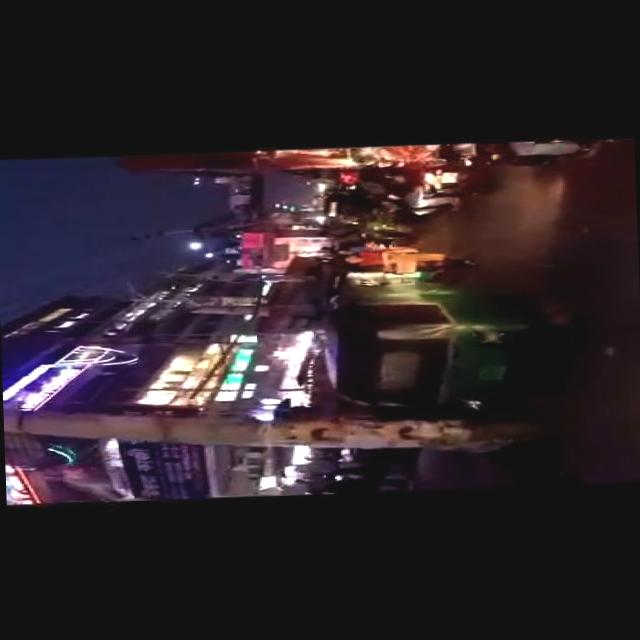bus: (113, 145, 441, 183)
motorcycle: (314, 277, 564, 418), (321, 193, 406, 237), (410, 164, 498, 198), (320, 264, 438, 289)
